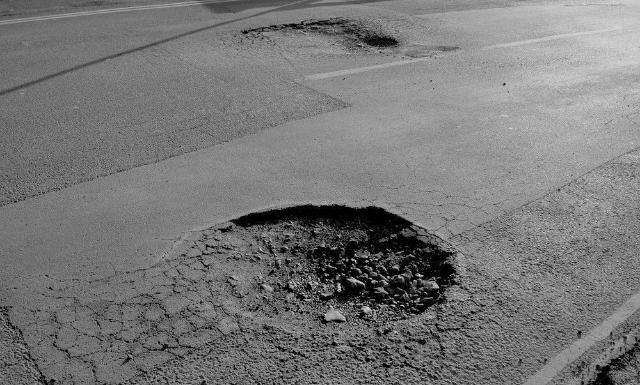Pothole: (172, 202, 458, 338), (238, 18, 400, 52)
